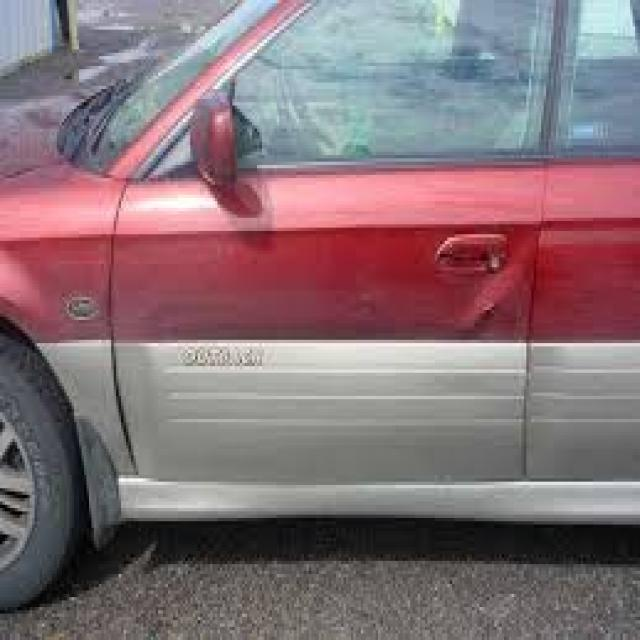minor: (423, 232, 532, 350)
